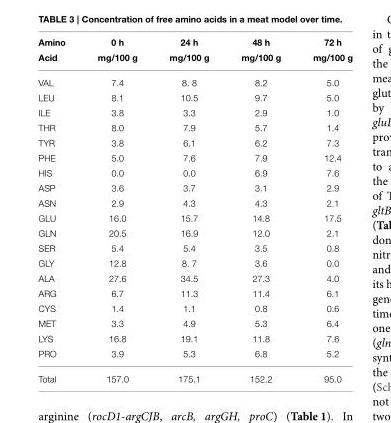table: (37, 37, 351, 383)
table column: (80, 37, 152, 383), (152, 37, 224, 383), (224, 37, 296, 383), (296, 37, 351, 383), (37, 37, 80, 383)
table column header: (37, 37, 351, 70)
table row: (37, 49, 351, 70), (37, 70, 351, 90), (37, 346, 351, 366), (37, 366, 351, 383), (37, 315, 351, 331), (37, 90, 351, 105), (37, 105, 351, 120), (37, 120, 351, 135), (37, 135, 351, 150), (37, 150, 351, 165), (37, 165, 351, 180), (37, 180, 351, 195), (37, 195, 351, 210), (37, 210, 351, 225), (37, 225, 351, 240), (37, 240, 351, 255), (37, 255, 351, 270), (37, 270, 351, 285), (37, 285, 351, 300), (37, 300, 351, 315), (37, 331, 351, 346), (37, 37, 351, 49)
table spanning cell: (80, 37, 152, 70), (152, 37, 224, 70), (224, 37, 296, 70), (296, 37, 351, 70), (37, 37, 80, 70)
